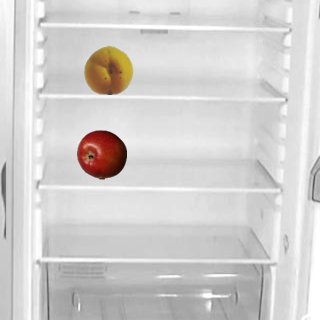Apple Braeburn: (76, 129, 126, 179)
Peach 2: (83, 44, 133, 94)
